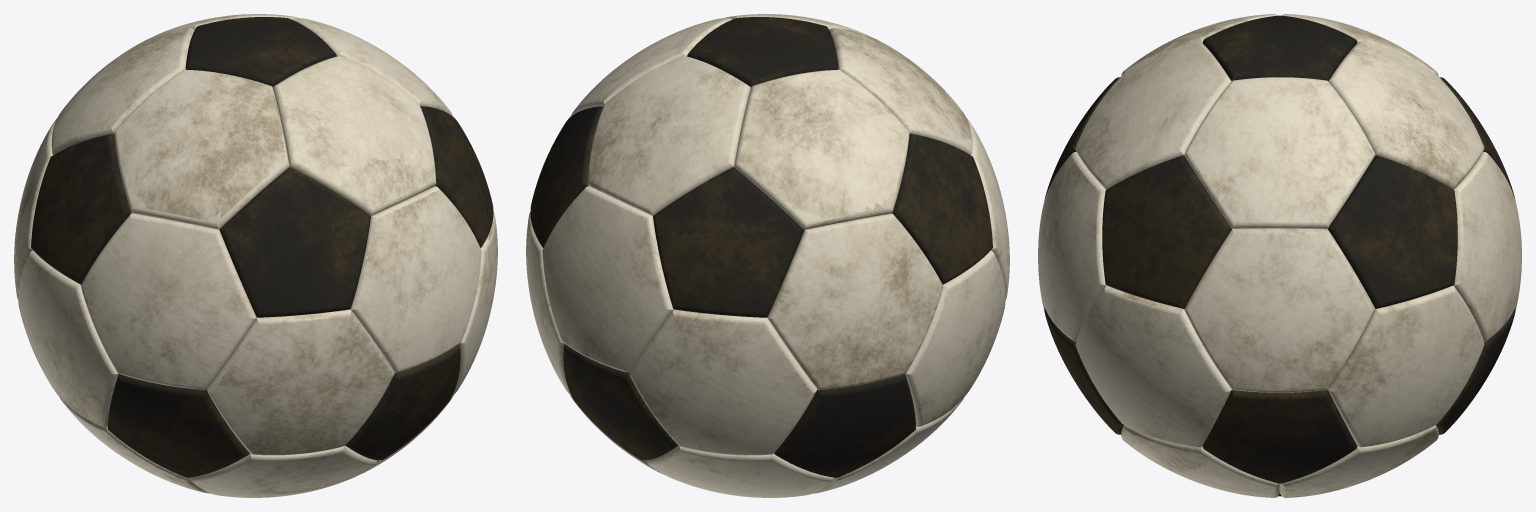
File: pallone calcio2.obj
3 views of the same model, side by side, from view 1: azimuth 30°, elevation 25°; view 2: azimuth 150°, elevation 25°; view 3: azimuth 270°, elevation 25° (orthographic).
Visible parts, largest first — view 1: Part3^bola007; view 2: Part3^bola007; view 3: Part3^bola007.
Boxes of the visible parts, left/top/right/bottom form: Part3^bola007: left=14, top=14, right=497, bottom=497; Part3^bola007: left=526, top=14, right=1009, bottom=497; Part3^bola007: left=1038, top=14, right=1521, bottom=497.
Bounding box in the file's own units: 1.03 × 1.03 × 1.03.
Materials: 1 (1 with a texture image).
